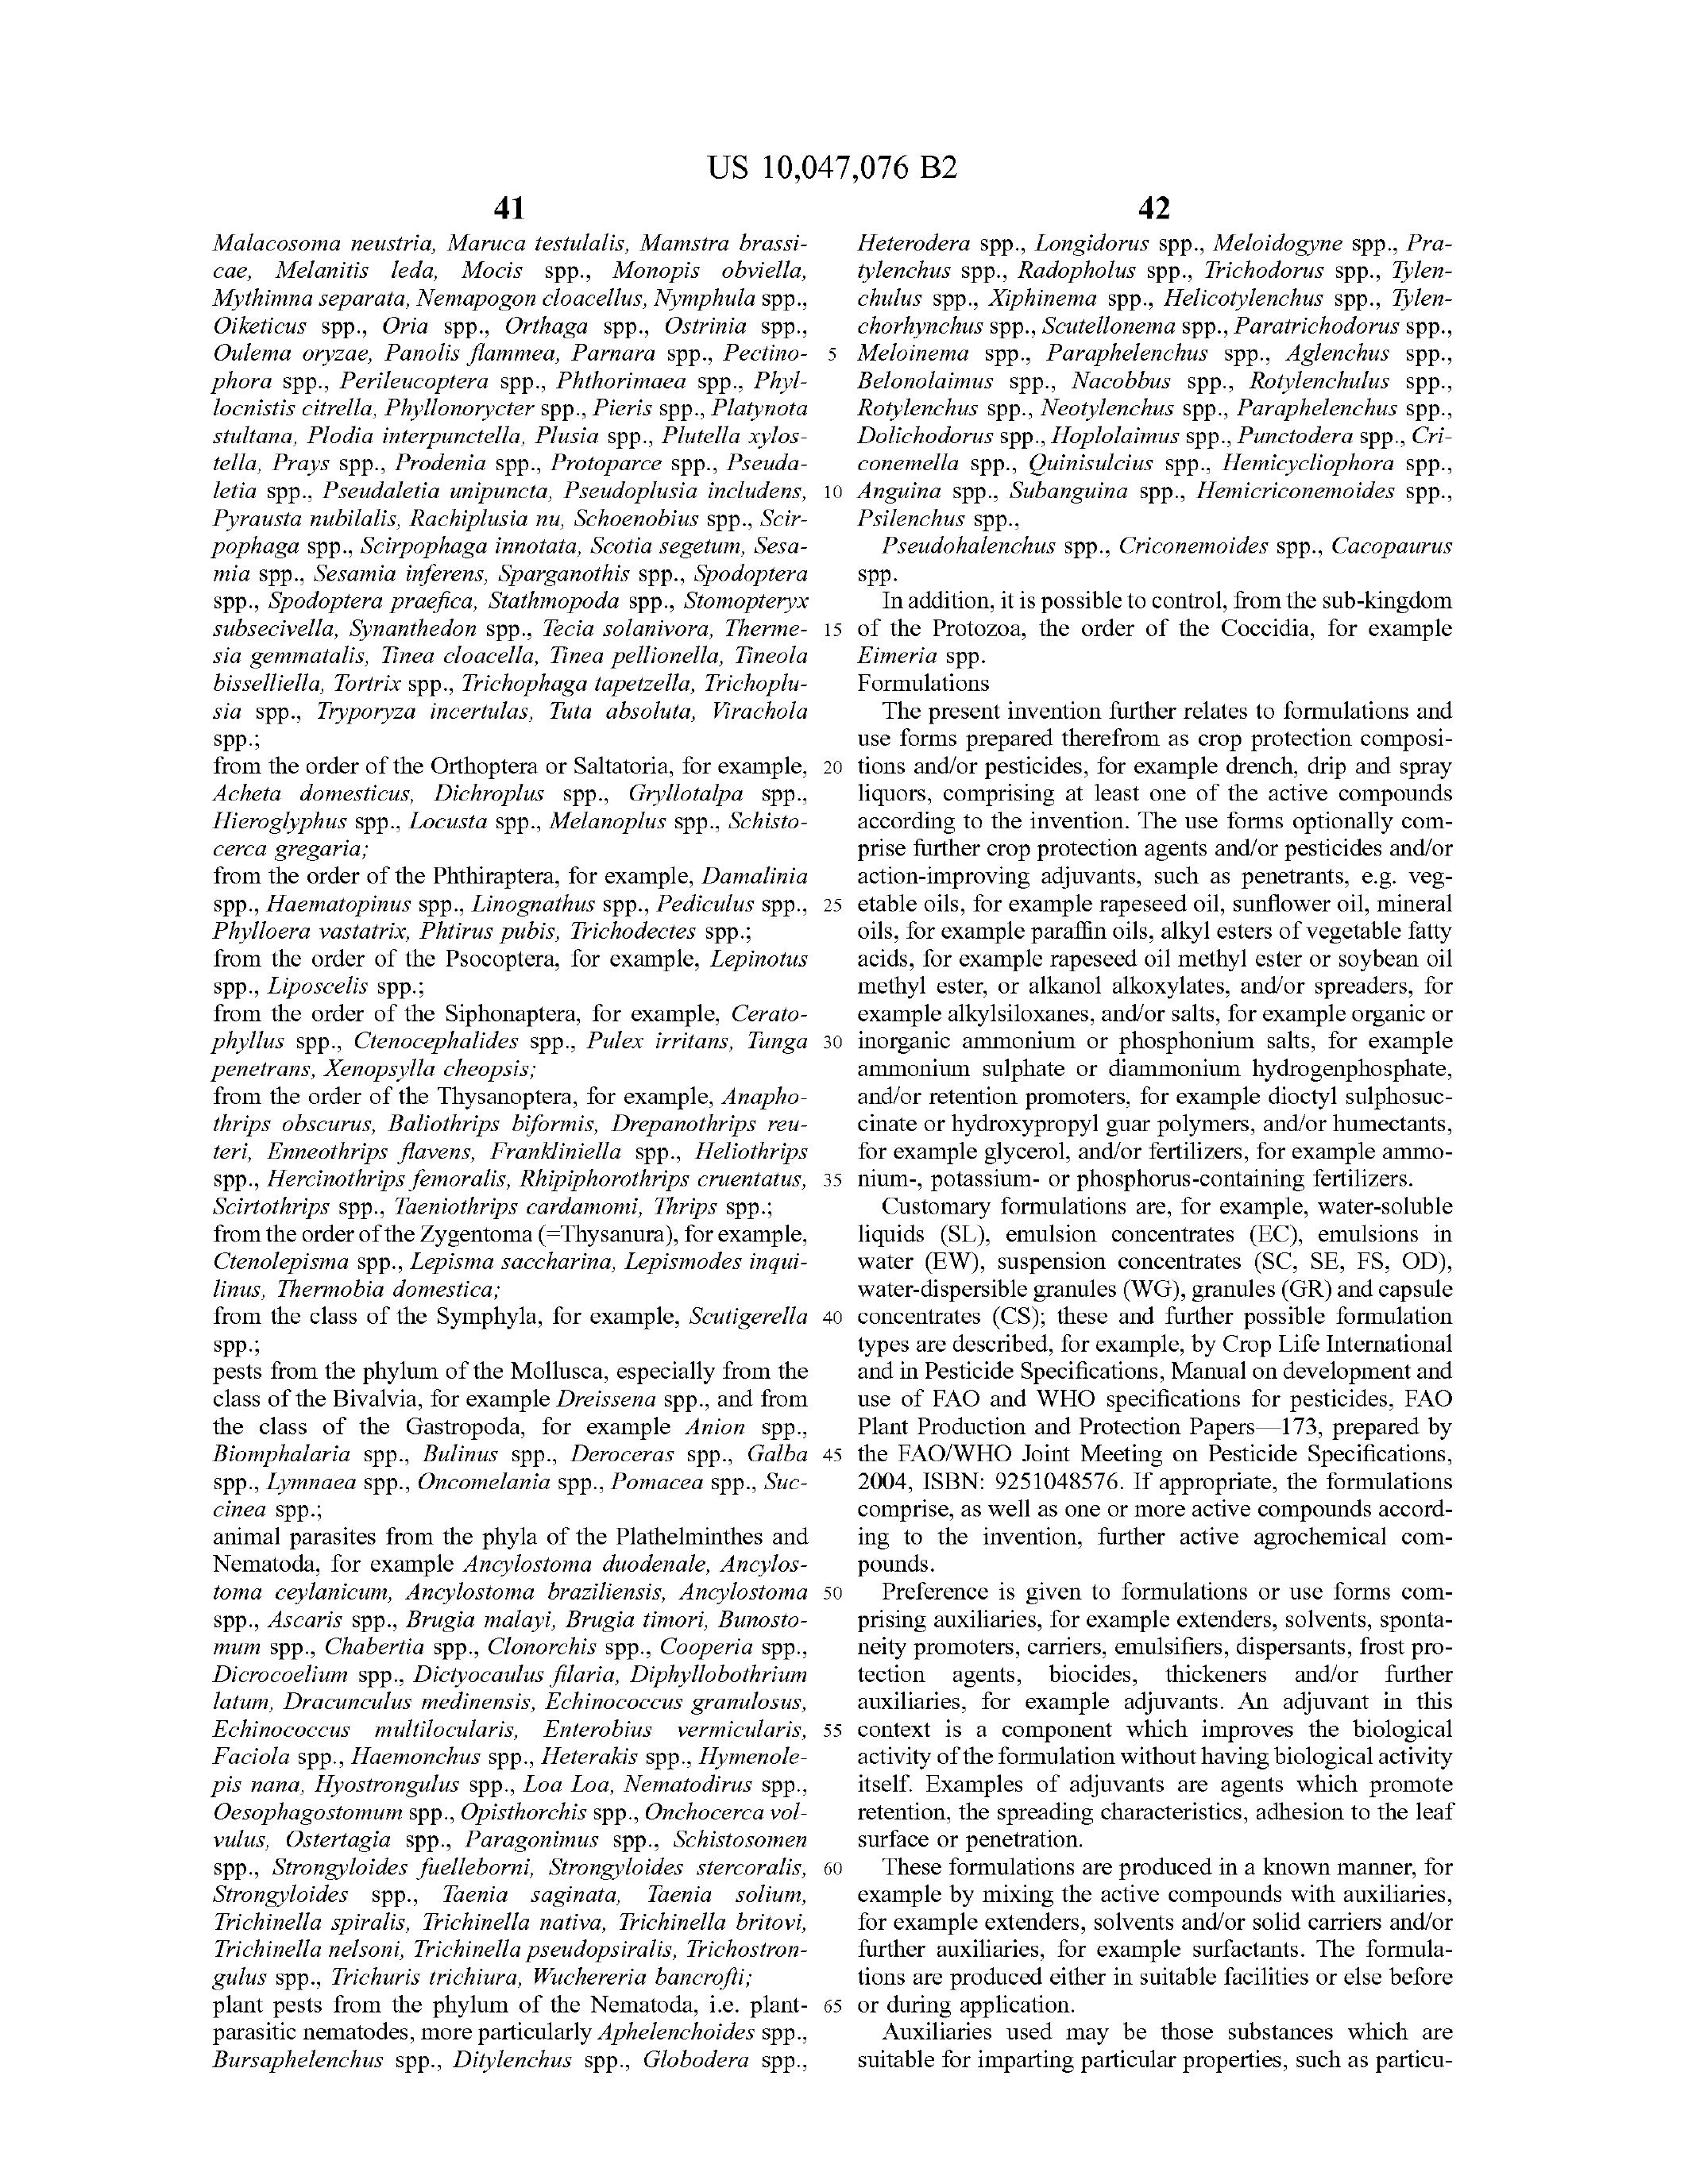substitutes: (860, 1581, 1463, 1845)
